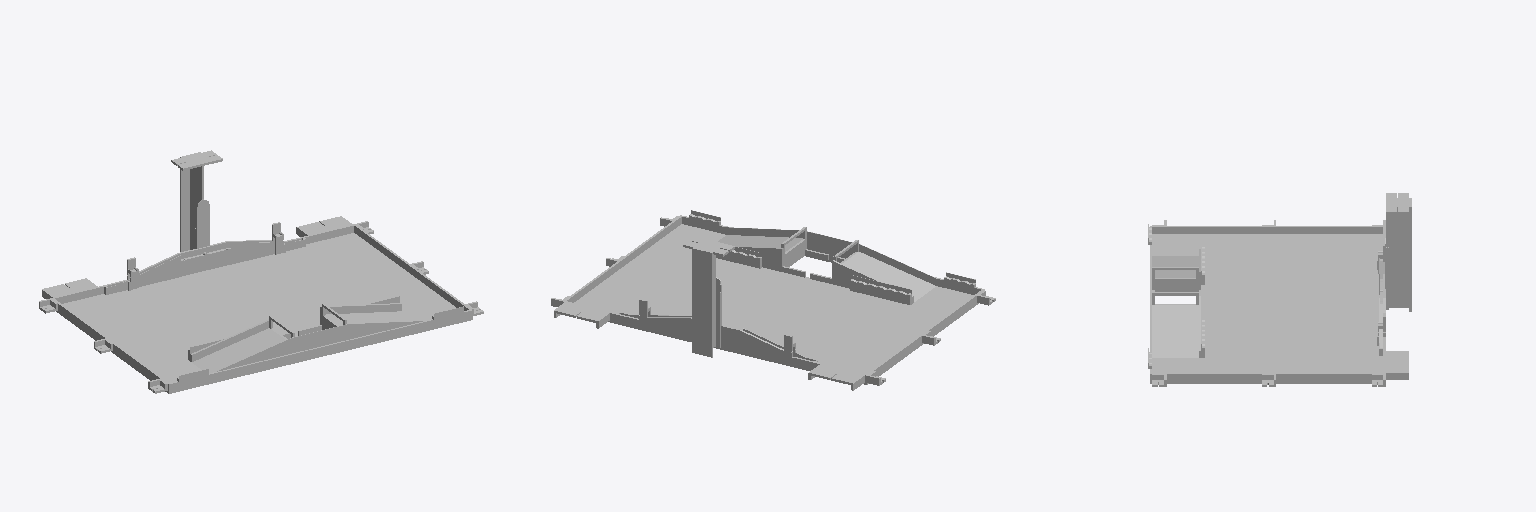
Rendered from ebot_3d_arena_my_table_floor-TableElements2019 v63 (Meshed).obj.
3 renders of one model, left to right at view 1: azimuth 30°, elevation 25°; view 2: azimuth 150°, elevation 25°; view 3: azimuth 270°, elevation 25°, orthographic.
Visible parts, largest first — view 1: Mesh; view 2: Mesh; view 3: Mesh.
Boxes of the visible parts, <box> form: Mesh: <box>39,150,483,393</box>; Mesh: <box>551,210,995,390</box>; Mesh: <box>1148,193,1411,386</box>.
Size of the model in its own units: 3288 by 1022 by 2279.